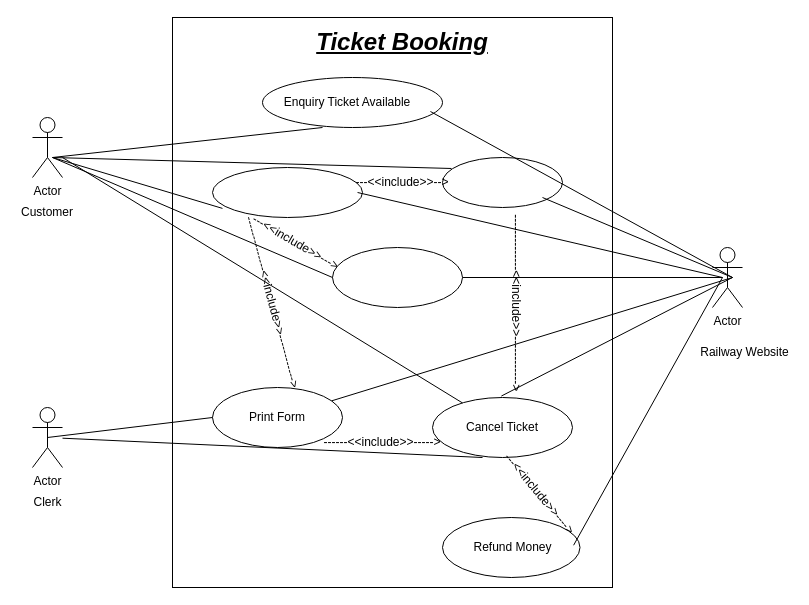
This 809x605 diagram has some shape labels left out. Each missing label, with the centre of its shape:
"Booking Ticket" belongs at point (287, 192).
"Fill Form" belongs at point (502, 182).
"Pay Fare Amount" belongs at point (397, 277).
